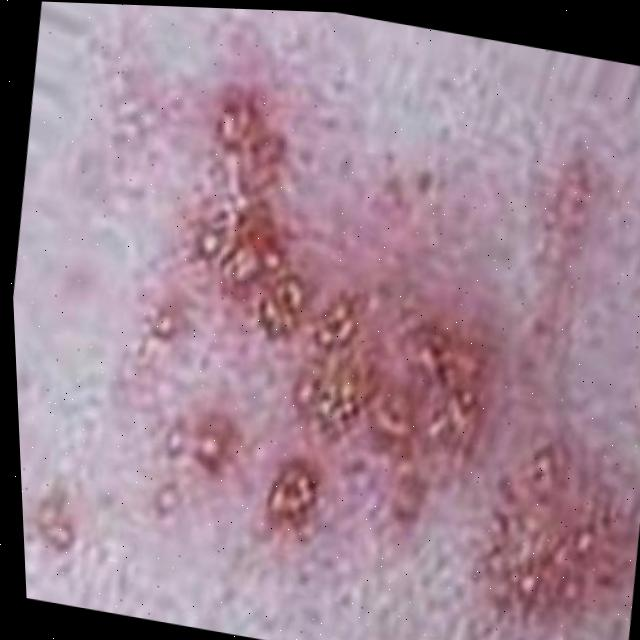Shingles: (112, 80, 640, 632), (27, 477, 90, 557)
